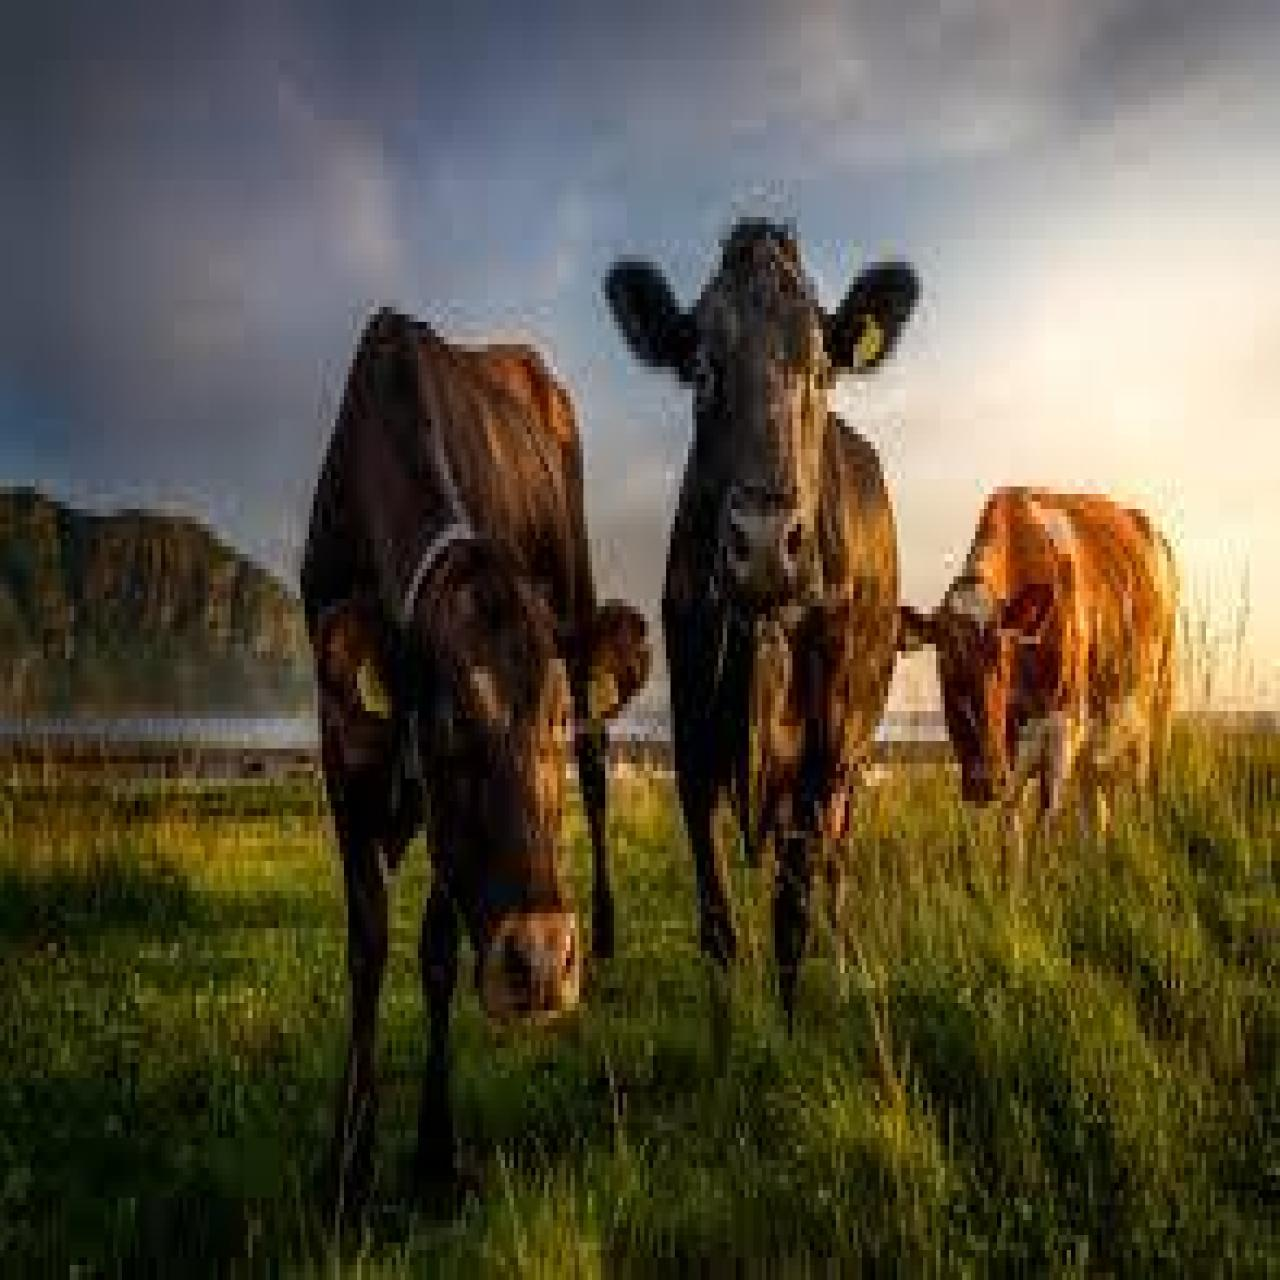cow: (298, 307, 647, 1213), (599, 222, 934, 1037), (897, 490, 1176, 901)
